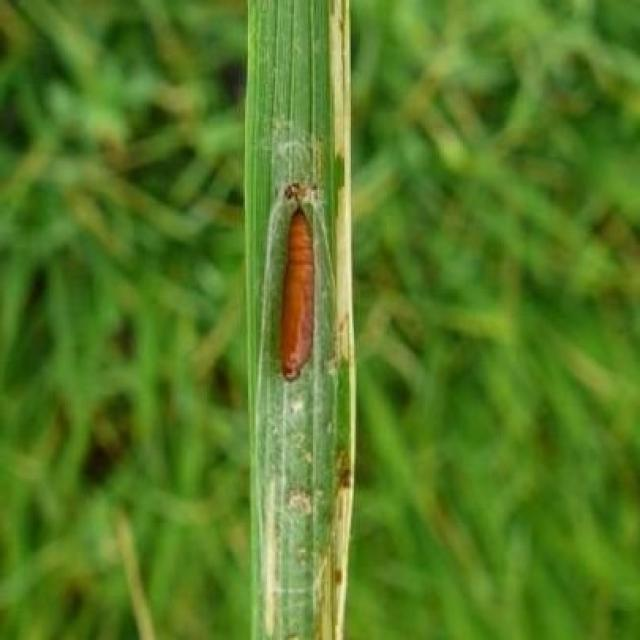peach borer: (273, 191, 317, 385)
